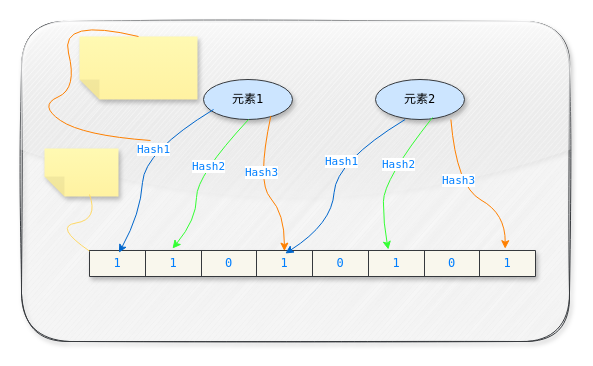
Image size: 593x366. Some labels were removed from this diagram. Each missing label, with the centre of its shape:
"位数组" belongs at pixel 82 173.
"通过不同的哈希算法计算多个哈希值并转换成位数组的下标" belongs at pixel 139 69.
